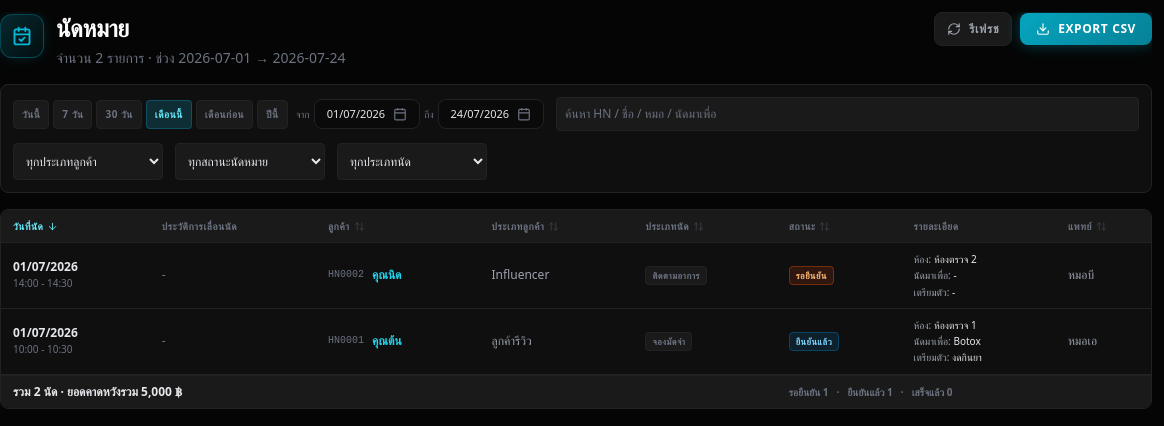
Scenario: AppointmentReportTab — render + interactions › status filter narrows to pending only
The image size is (1164, 426).
Expected: the row with test id "appt-row-A1" is shown, [1,308,1152,375]
Select "รอยืนยัน" in the dropdown with test id "appt-filter-status" at point(250, 162), box [175,143,325,180]
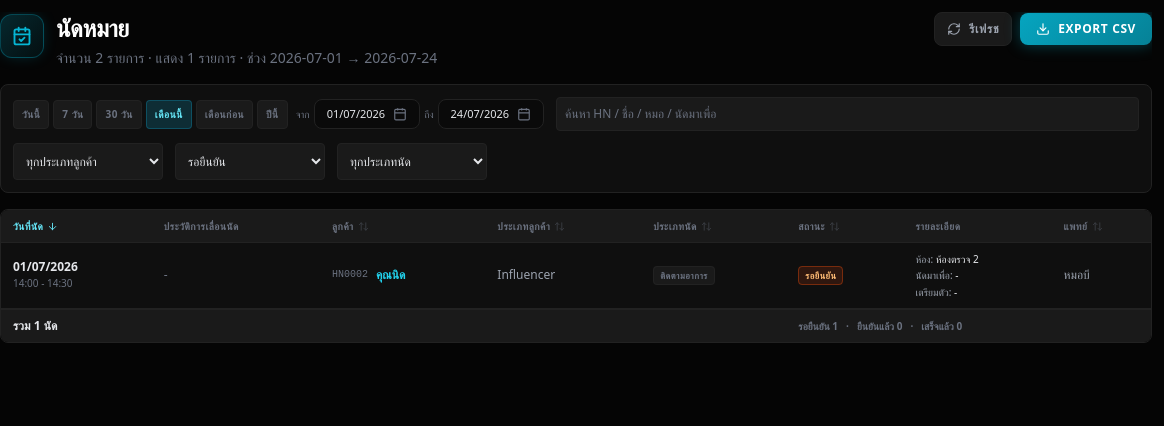
Expected: the row with test id "appt-row-A2" is shown, [1,242,1152,309]
Result: the row with test id "appt-row-A1" is gone
